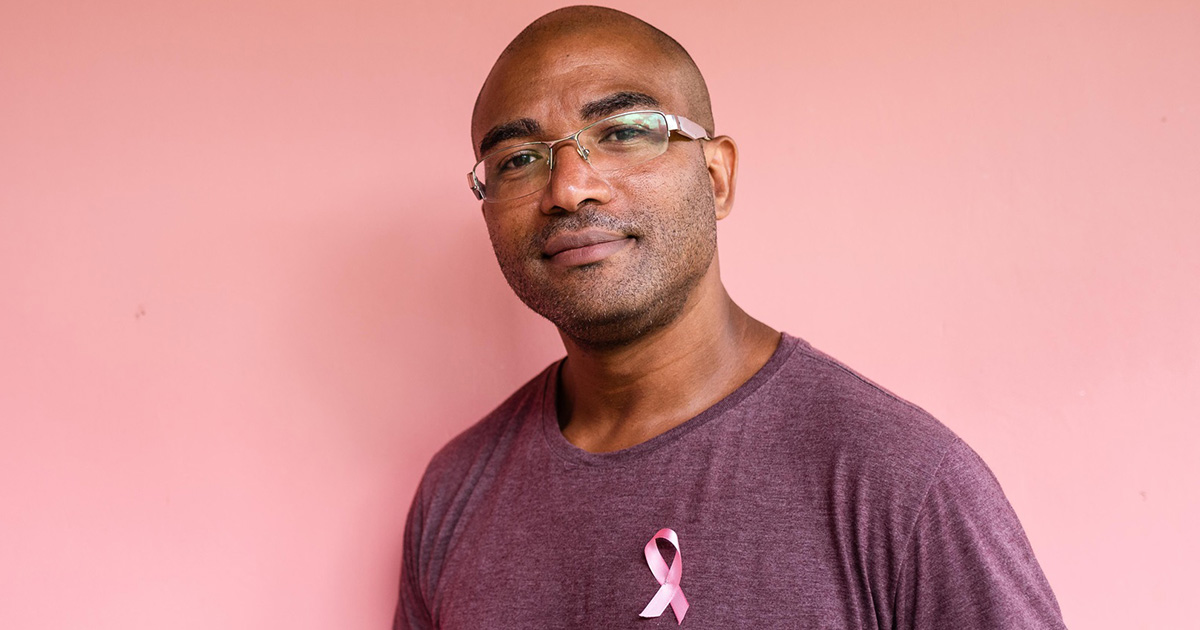Without Helmet: (455, 1, 748, 375)
